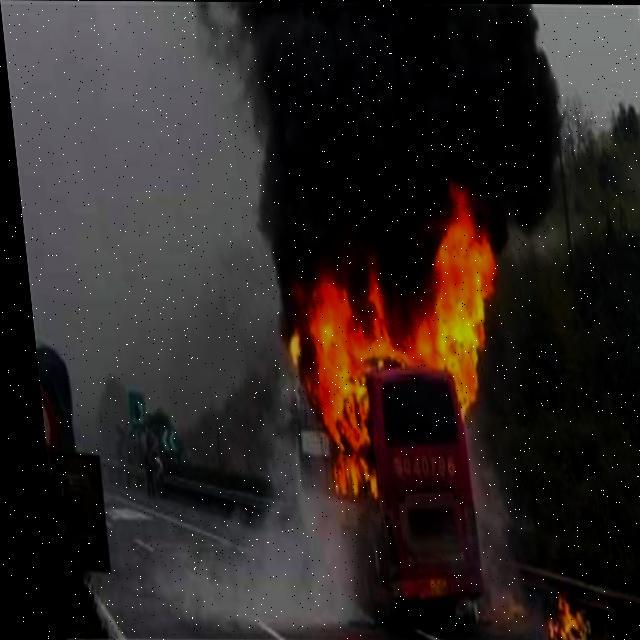Fire: (262, 172, 508, 502)
